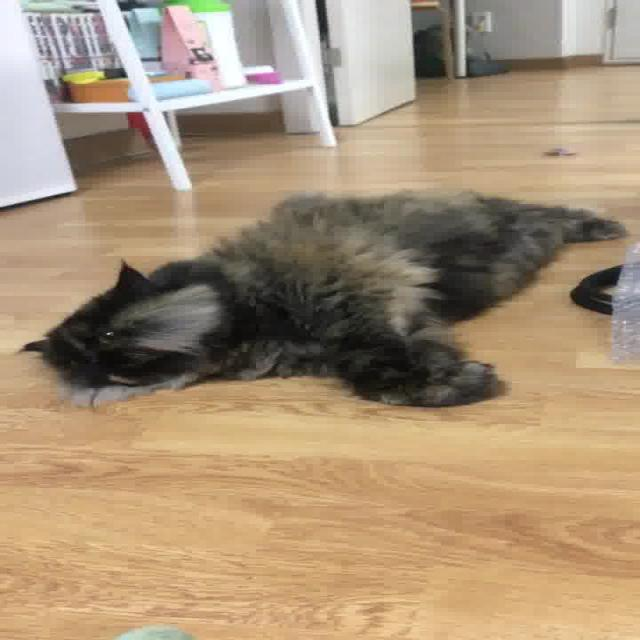cat: (16, 167, 636, 415)
